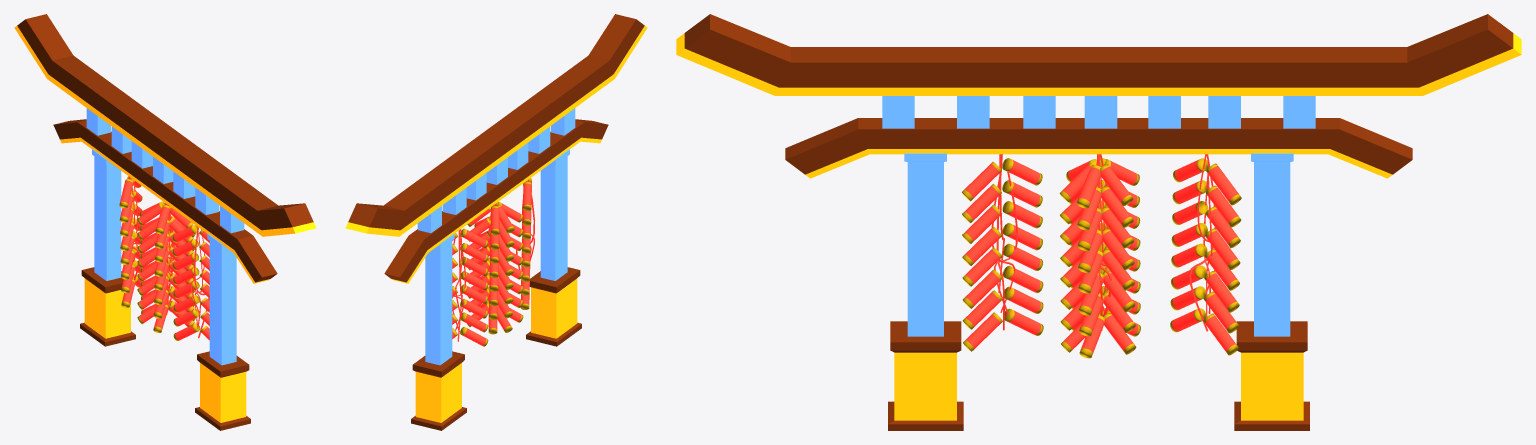
Rendered from trap arch.fbx.
3 renders of one model, left to right at view 1: azimuth 30°, elevation 25°; view 2: azimuth 150°, elevation 25°; view 3: azimuth 270°, elevation 25°, orthographic. The views are drawn at different scales.
Parts seen in each view (by area): view 1: Cylinder.008; view 2: Cylinder.008; view 3: Cylinder.008.
Part boxes in pixels (bbox=[...]): Cylinder.008: bbox=[14, 14, 316, 430]; Cylinder.008: bbox=[345, 14, 647, 430]; Cylinder.008: bbox=[676, 14, 1521, 430].
Bounding box in the file's own units: 30.73 × 157 × 302.
